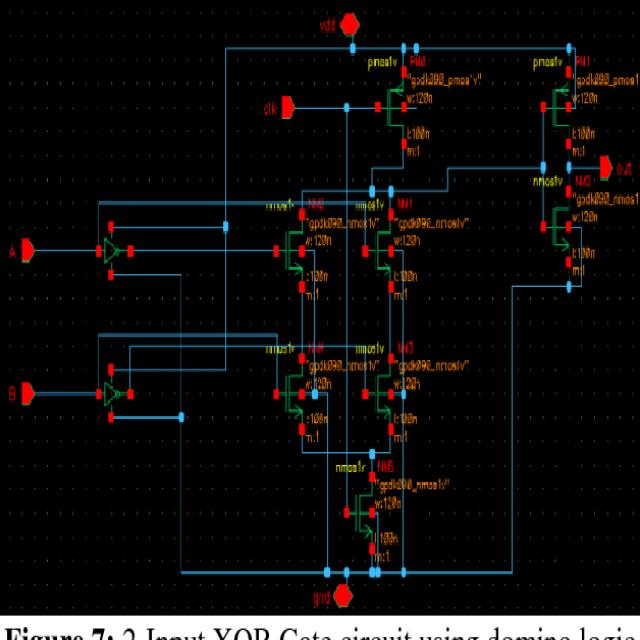inverter: (92, 221, 132, 278), (96, 366, 136, 421)
nmos: (262, 201, 306, 293), (532, 174, 574, 266), (336, 463, 377, 556), (355, 346, 395, 434), (268, 346, 306, 435), (358, 202, 393, 292)
pmos: (366, 55, 408, 152), (532, 54, 573, 151)
